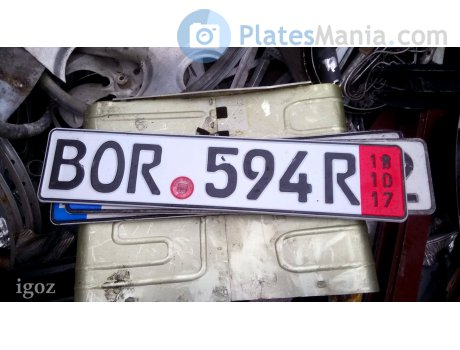License Plates: (66, 142, 357, 201)
